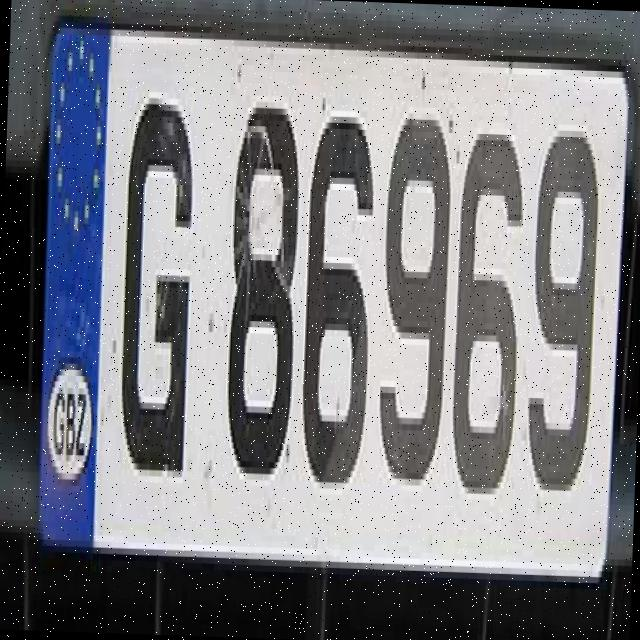Autre: (29, 17, 634, 609)
